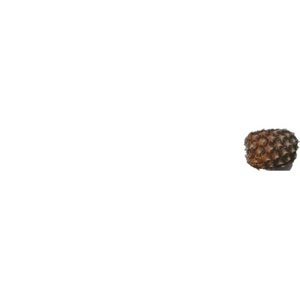abacaxi: (242, 127, 299, 171)
